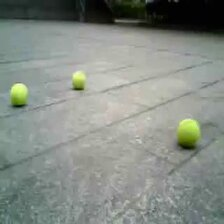tennis: (176, 119, 200, 147), (9, 83, 27, 105), (72, 71, 86, 89)
